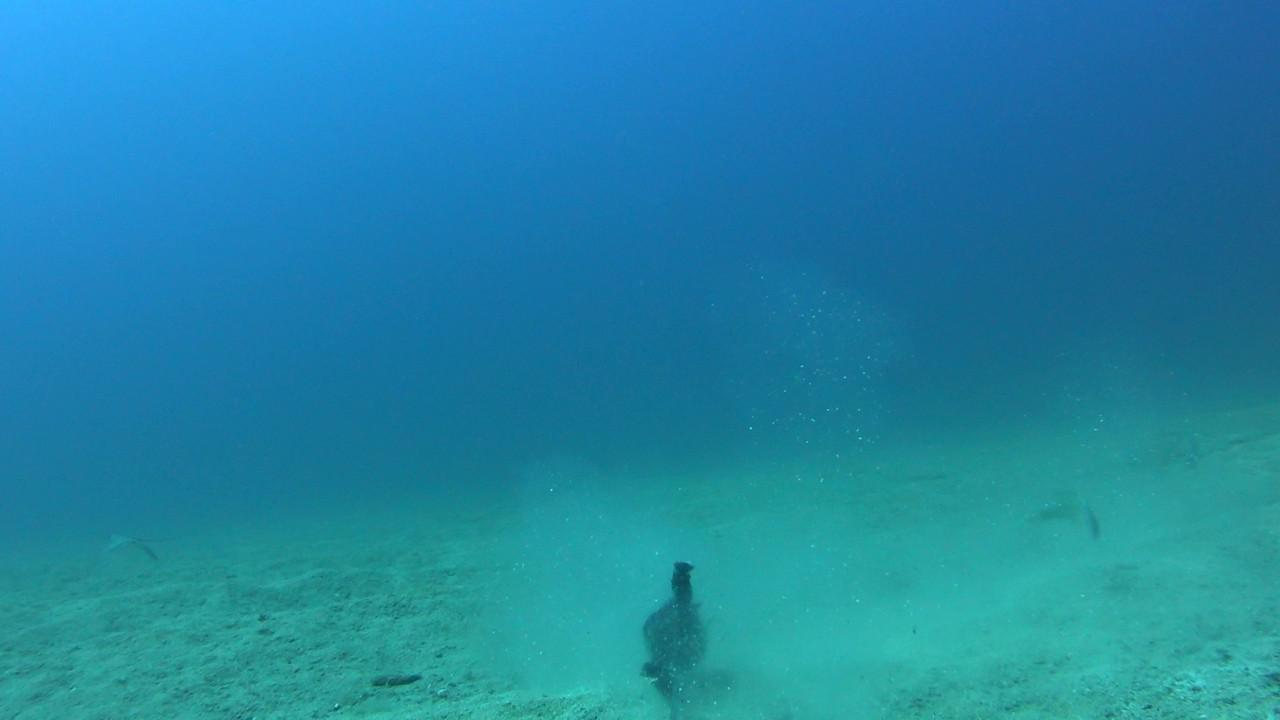myliobatis: (83, 505, 187, 567)
